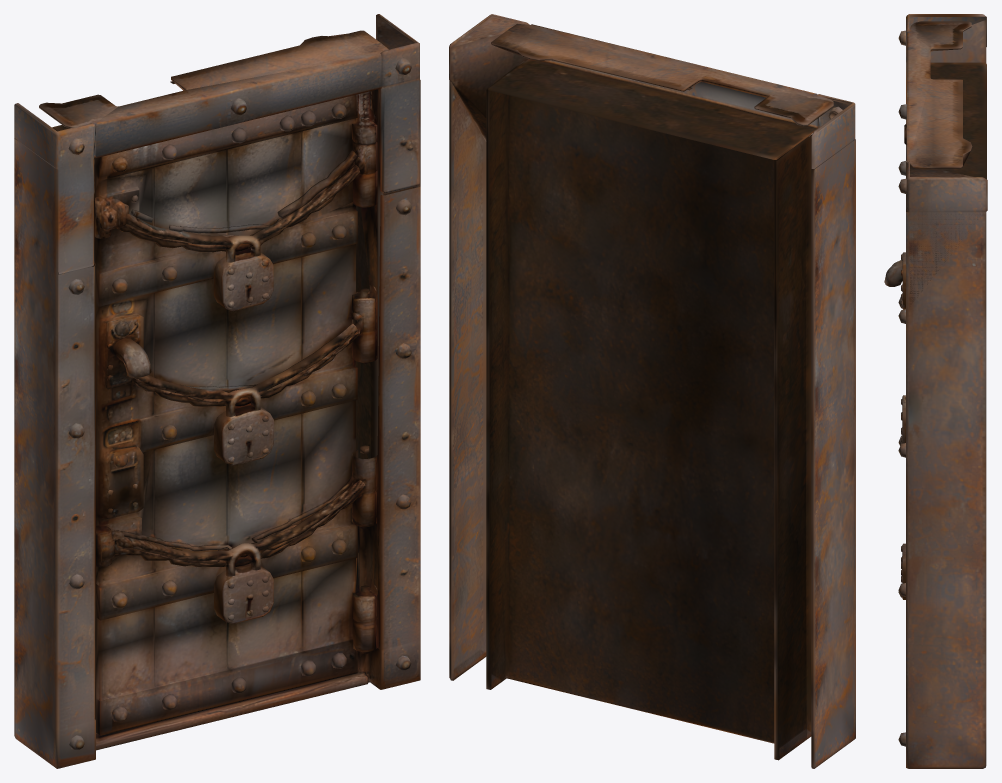
File: door.glb
3 renders of one model, left to right at view 1: azimuth 30°, elevation 25°; view 2: azimuth 150°, elevation 25°; view 3: azimuth 270°, elevation 25°, orthographic. The views are drawn at different scales.
Visible parts, largest first — view 1: material; view 2: material; view 3: material.
Part boxes in pixels (<box>): material: <box>14,14,420,768</box>; material: <box>449,14,855,768</box>; material: <box>884,14,987,768</box>.
Size of the model in its own units: 1.14 by 1.9 by 0.3007.
Materials: 1 (1 with a texture image).
